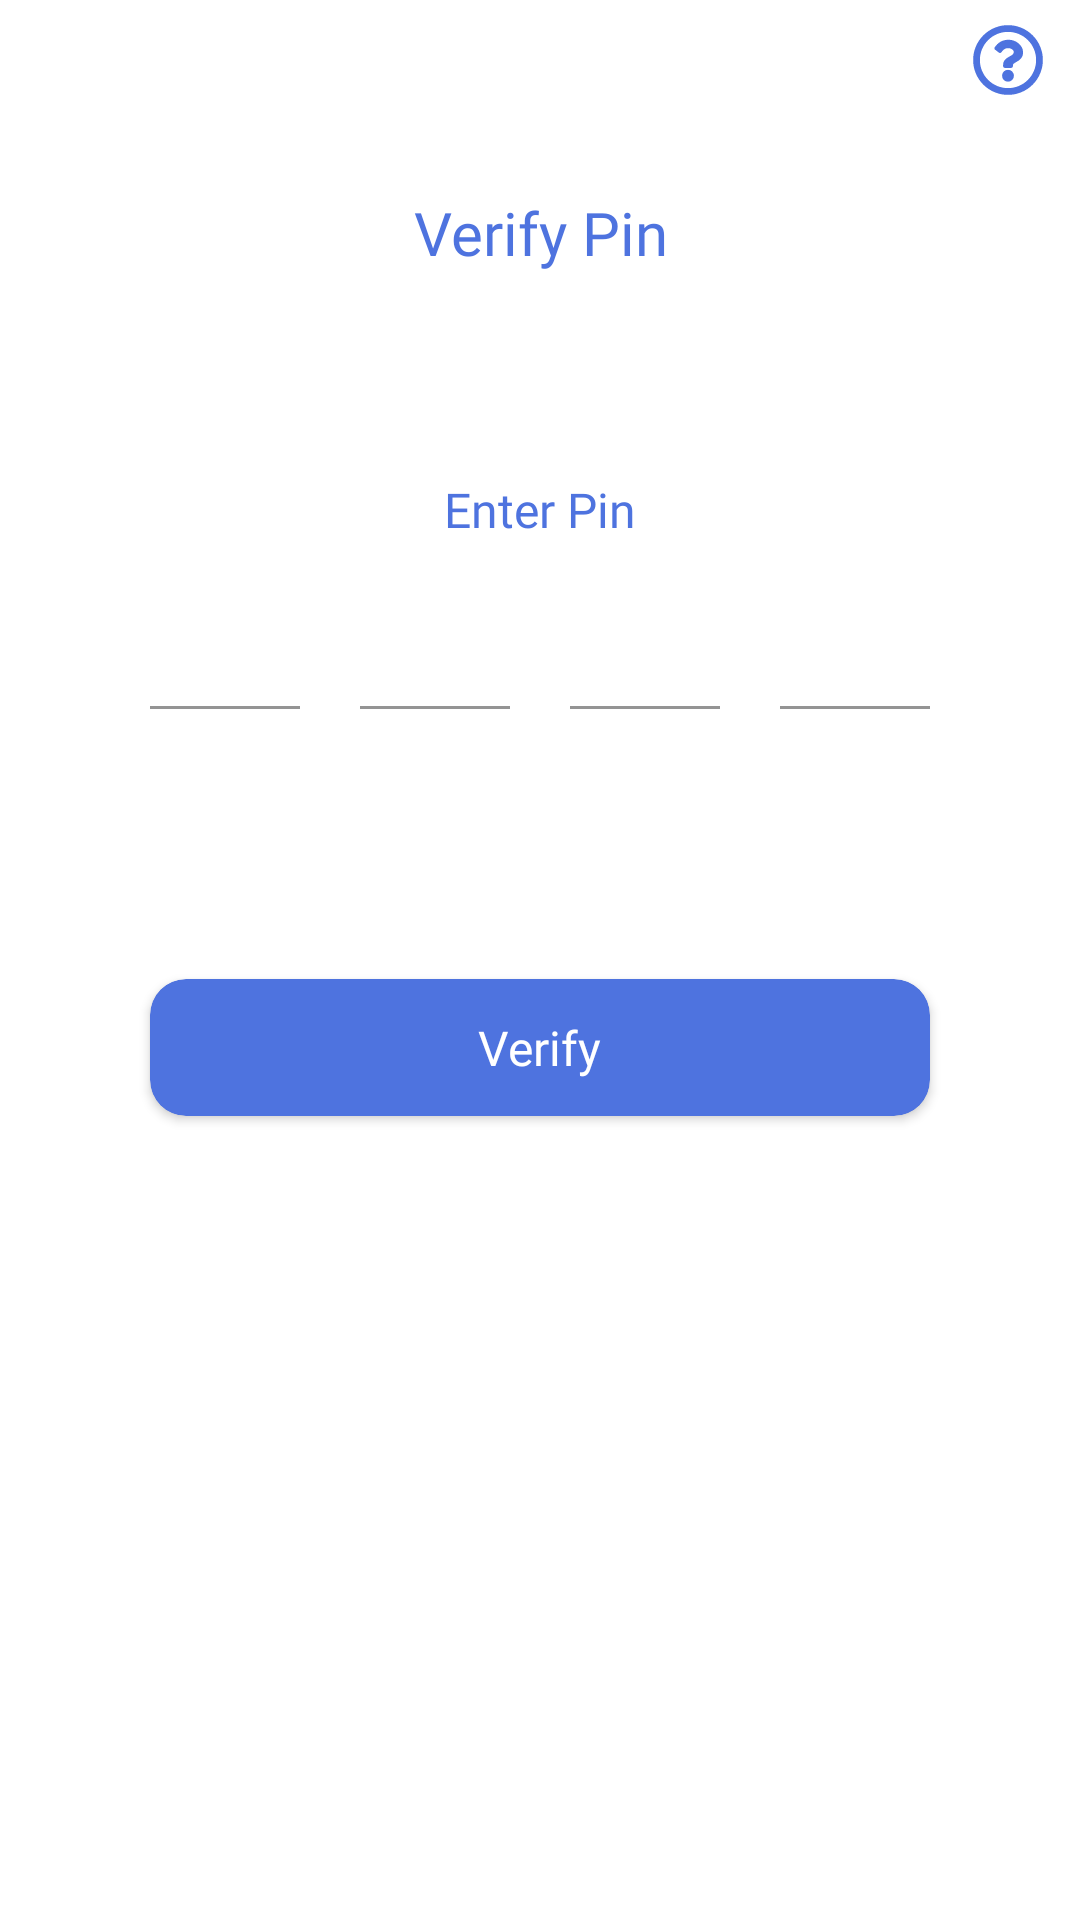

Icons on this 1080 × 1920 Android screen, each with its box as {"left": x1, "top": y1, "right": x2, "bottom": y2}:
questionmark: {"left": 973, "top": 25, "right": 1043, "bottom": 95}
